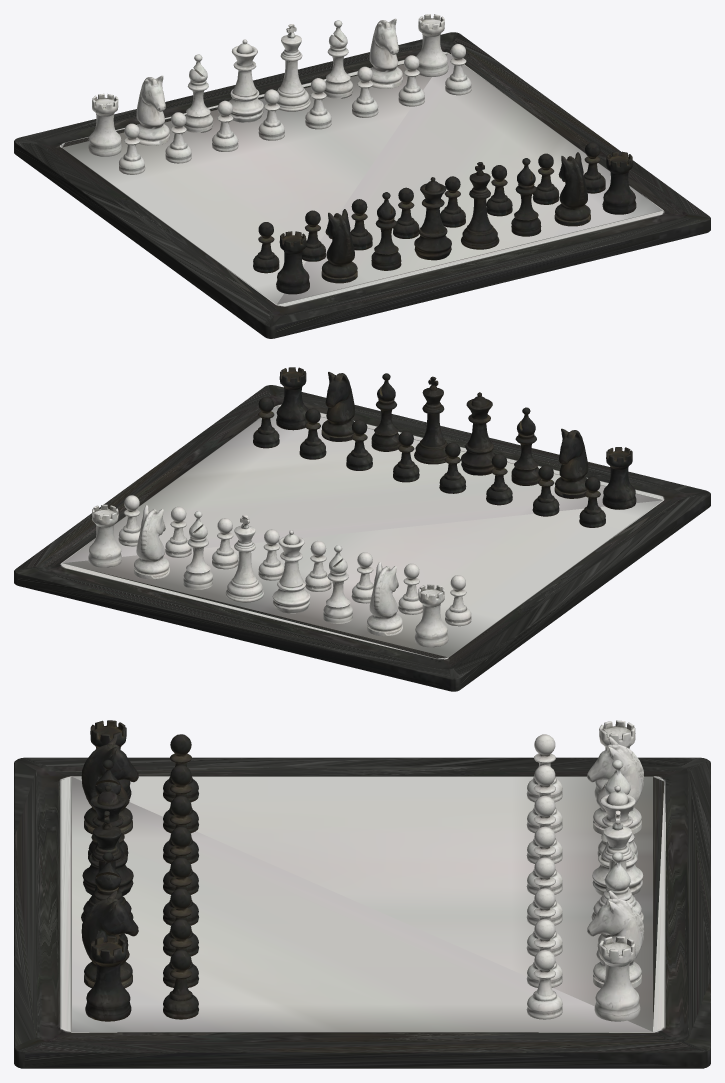
Rendered from chess-set.glb.
3 views of the same model, one above another, from view 1: azimuth 30°, elevation 25°; view 2: azimuth 150°, elevation 25°; view 3: azimuth 270°, elevation 25° (orthographic). The views are drawn at different scales.
Visible parts, largest first — view 1: chess_set; view 2: chess_set; view 3: chess_set.
Part boxes in pixels (x1=…): chess_set: x1=14, y1=14, x2=710, y2=338; chess_set: x1=14, y1=367, x2=710, y2=691; chess_set: x1=14, y1=720, x2=710, y2=1068.
Size of the model in its own units: 0.5532 by 0.1122 by 0.5532.
Materials: 3 (3 with a texture image).
